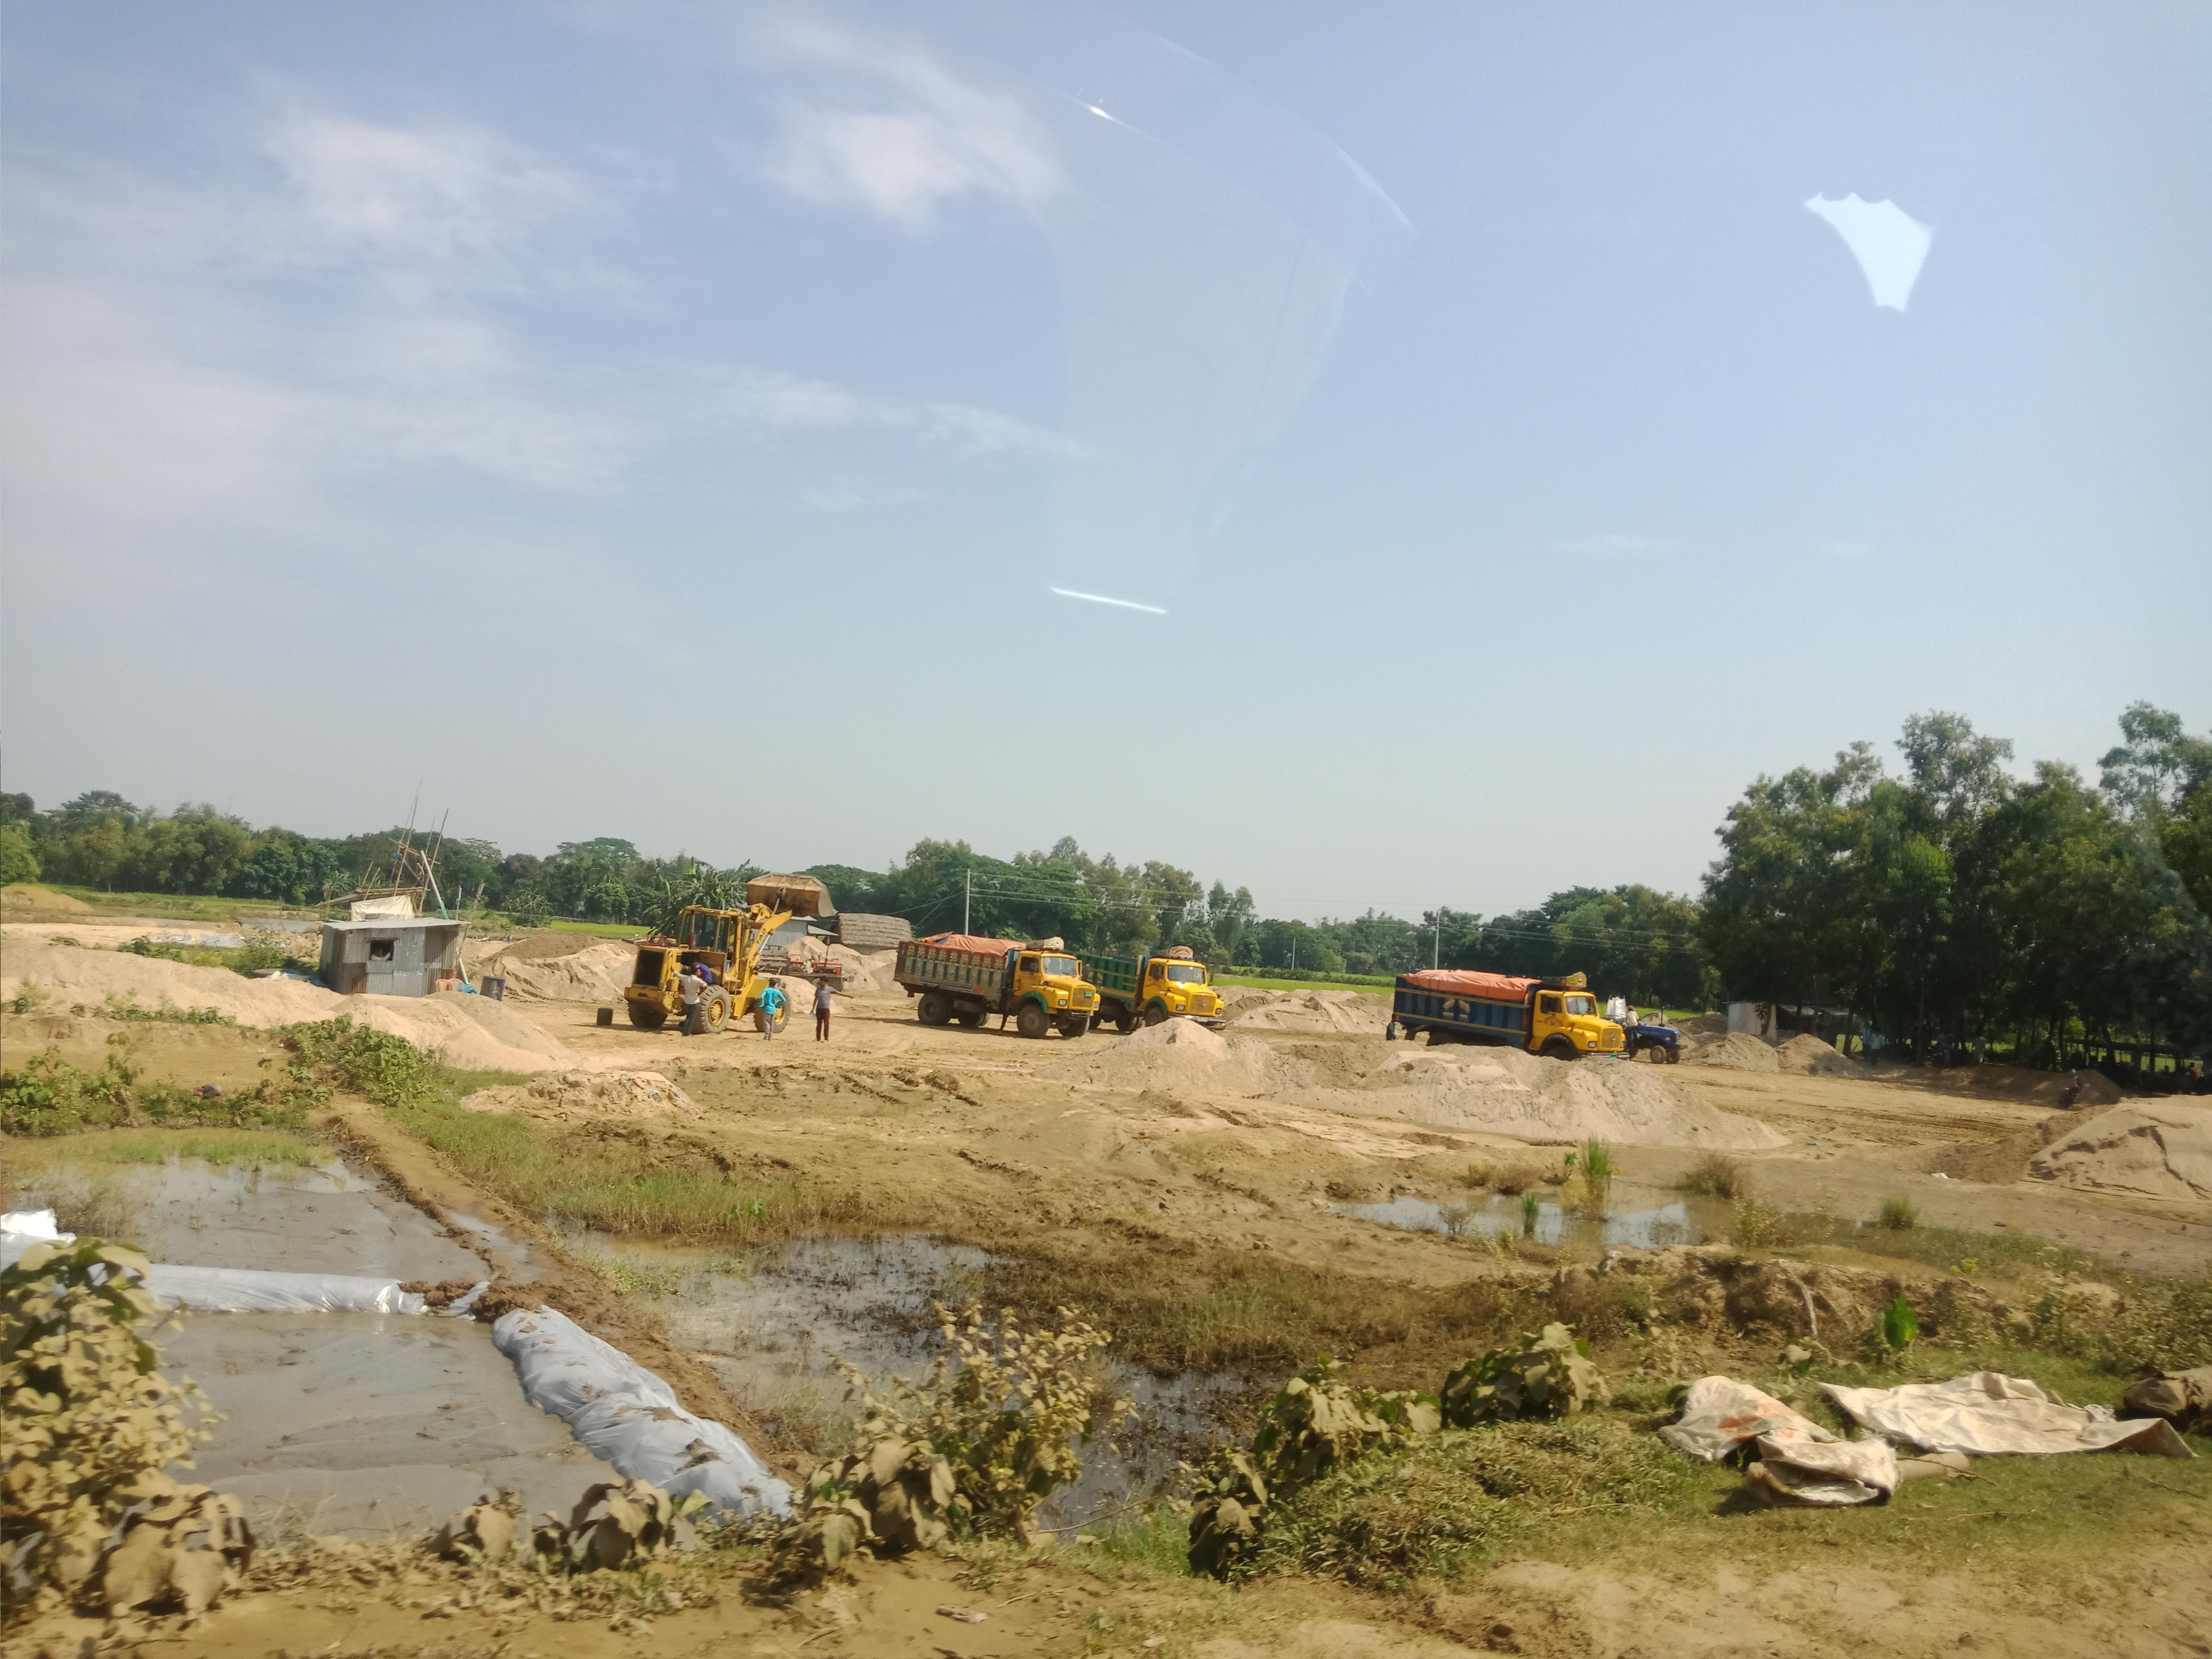tractor: (1625, 1021, 1686, 1060)
truck: (888, 924, 1099, 1047), (1385, 965, 1604, 1065), (1073, 943, 1223, 1030)
